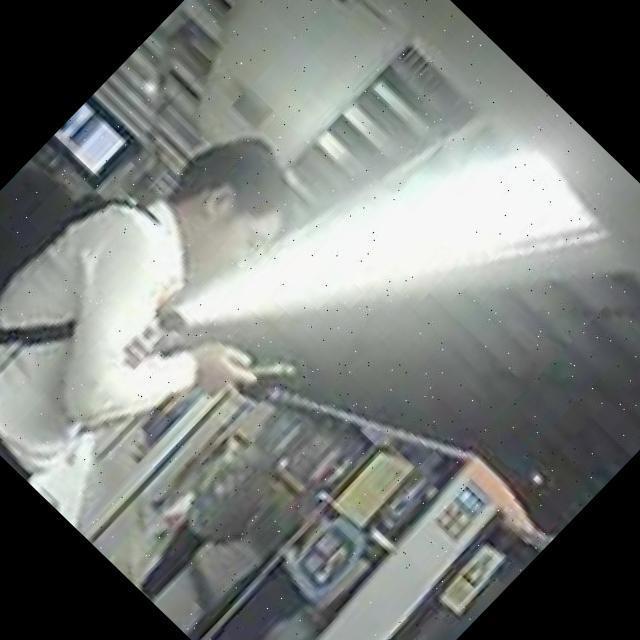person: (0, 73, 377, 544), (115, 427, 301, 616)
